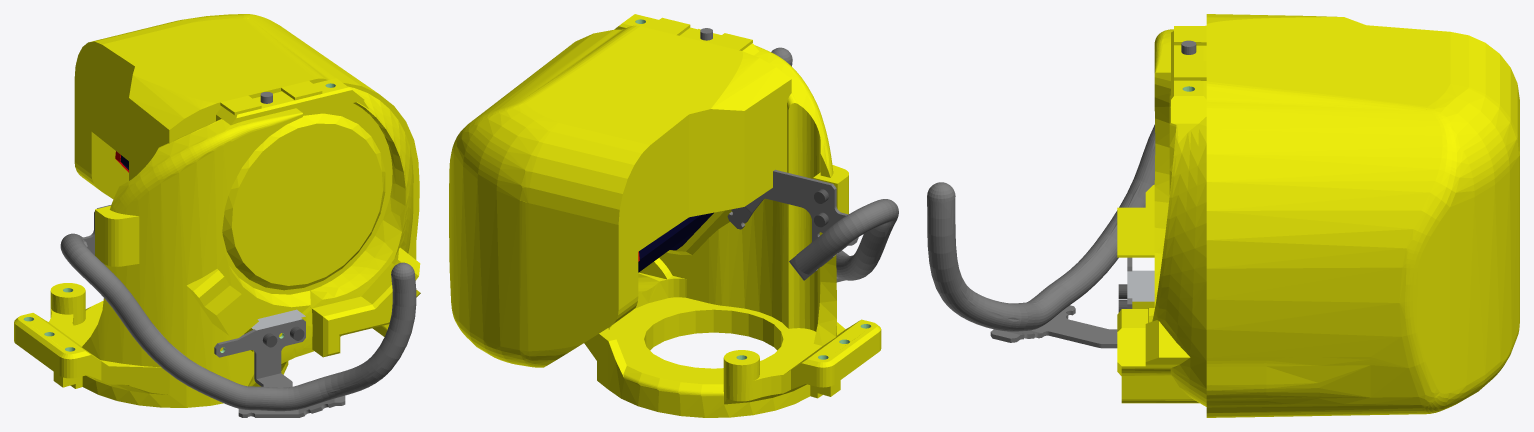
The model's file is arm1.fbx.
The picture shows the model from 3 angles, left to right: view 1: azimuth 30°, elevation 25°; view 2: azimuth 150°, elevation 25°; view 3: azimuth 270°, elevation 25°; orthographic projection. The views are drawn at different scales.
Parts seen in each view (by area): view 1: G_1_1; view 2: G_1_1; view 3: G_1_1.
Boxes of the visible parts, x1,y1,x2,y2 form: G_1_1: [14, 14, 420, 417]; G_1_1: [449, 14, 898, 417]; G_1_1: [927, 14, 1519, 417].
Size of the model in its own units: 32.24 by 25.15 by 39.76.
